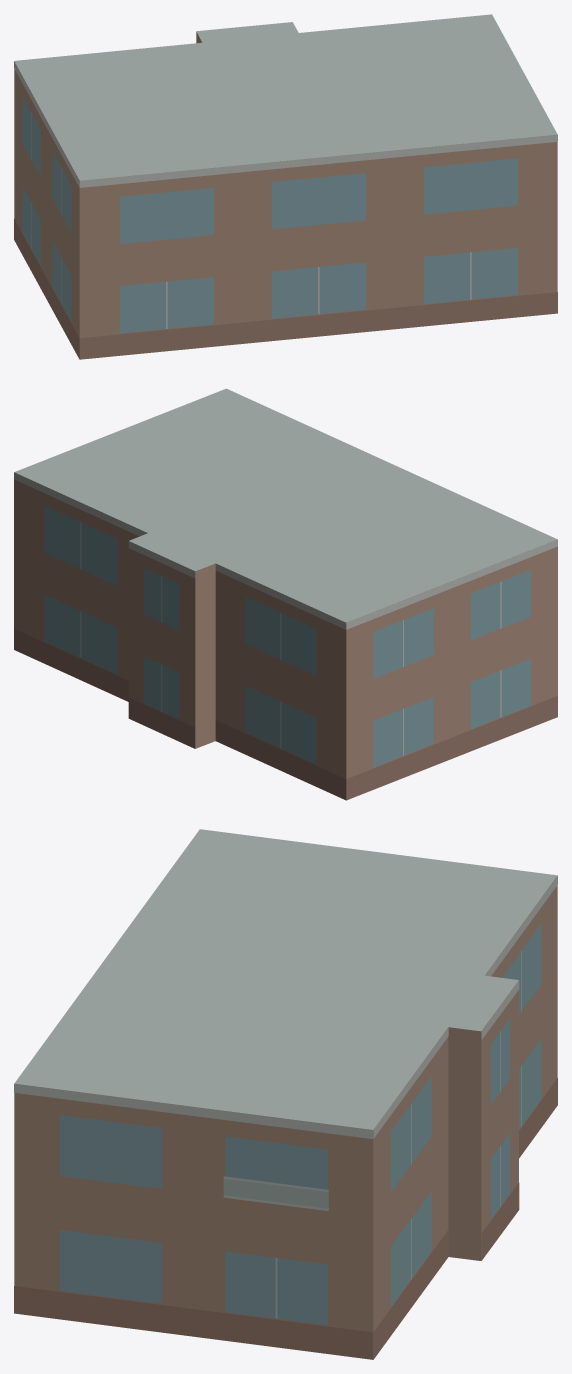
The model's file is survey-upis-32708088.glb.
The picture shows the model from 3 angles, top to bottom: view 1: azimuth 30°, elevation 25°; view 2: azimuth 150°, elevation 25°; view 3: azimuth 270°, elevation 25°; orthographic projection. The views are drawn at different scales.
Visible parts, largest first — view 1: survey-upis-32708088.tmp; view 2: survey-upis-32708088.tmp; view 3: survey-upis-32708088.tmp.
Boxes of the visible parts, box(x1,y1,x2,y2) form: survey-upis-32708088.tmp: box(14, 14, 557, 359); survey-upis-32708088.tmp: box(14, 388, 557, 800); survey-upis-32708088.tmp: box(14, 829, 557, 1359).
Bounding box in the file's own units: 17.14 × 6.1 × 13.09.
